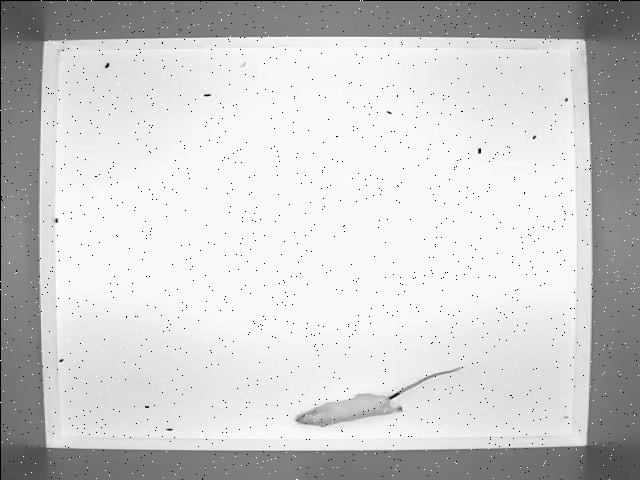Tikus: (294, 366, 460, 426)
